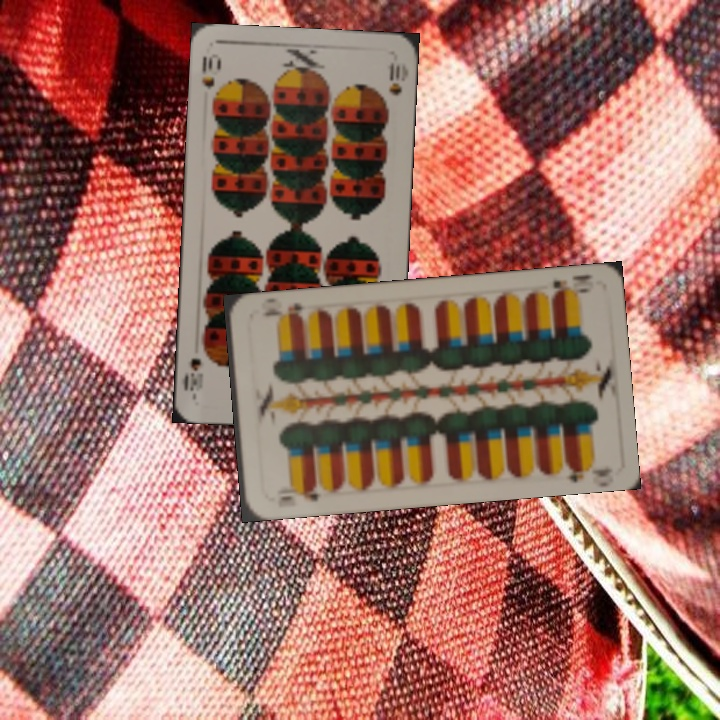E10: (547, 270, 596, 301), (273, 481, 321, 504)
S10: (197, 49, 224, 107)
